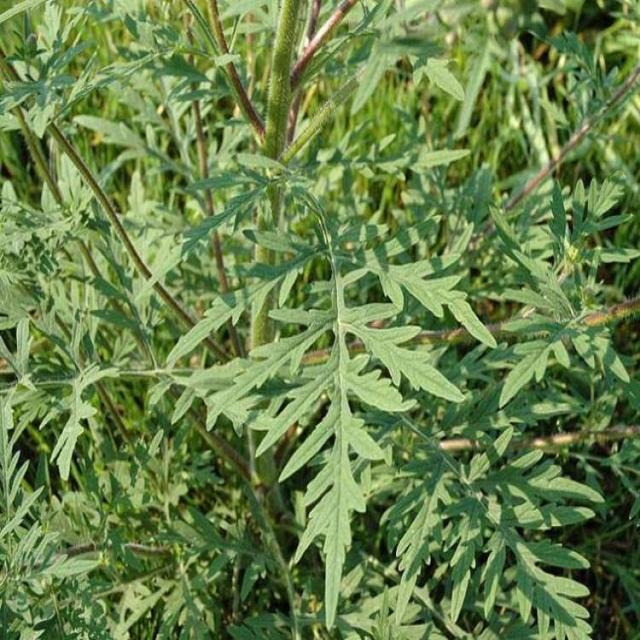ambrosia: (218, 155, 629, 622)
